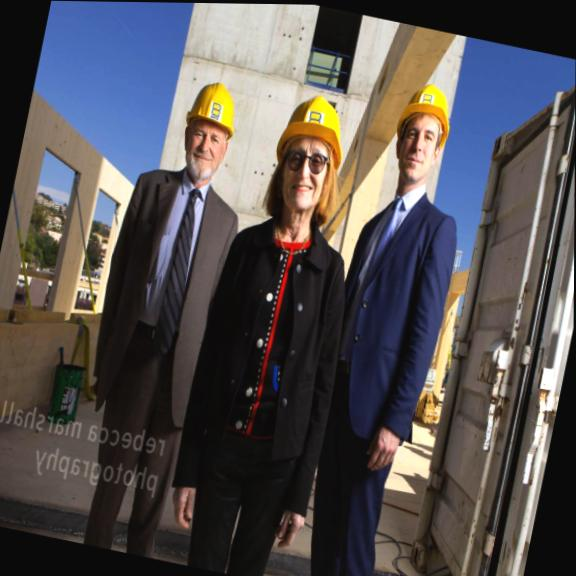no_safety_vest: (190, 221, 351, 437), (317, 188, 463, 423), (83, 171, 247, 361)
